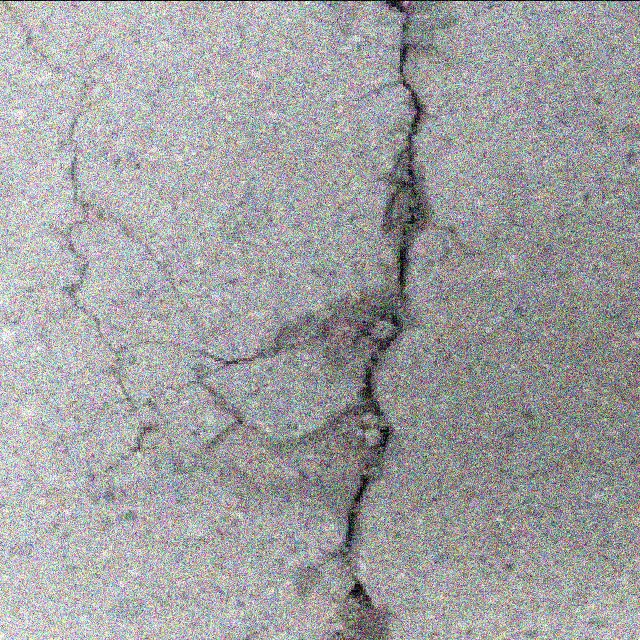SurfaceCrack: (290, 0, 454, 634)
